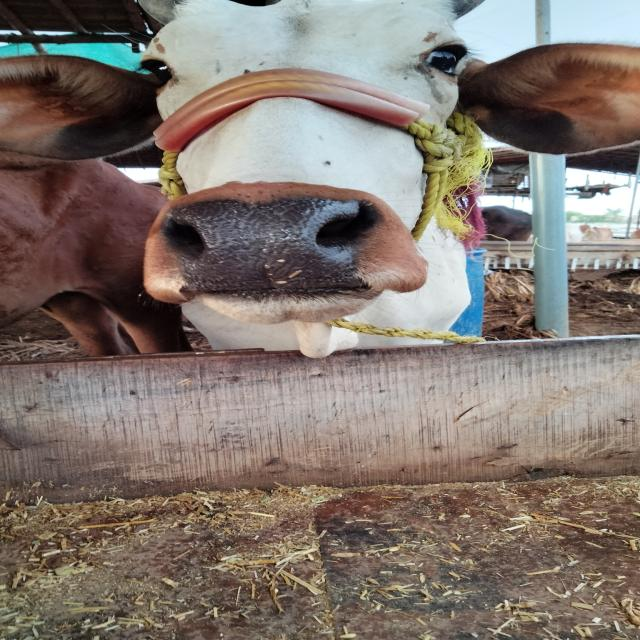muzzles: (152, 188, 388, 306)
